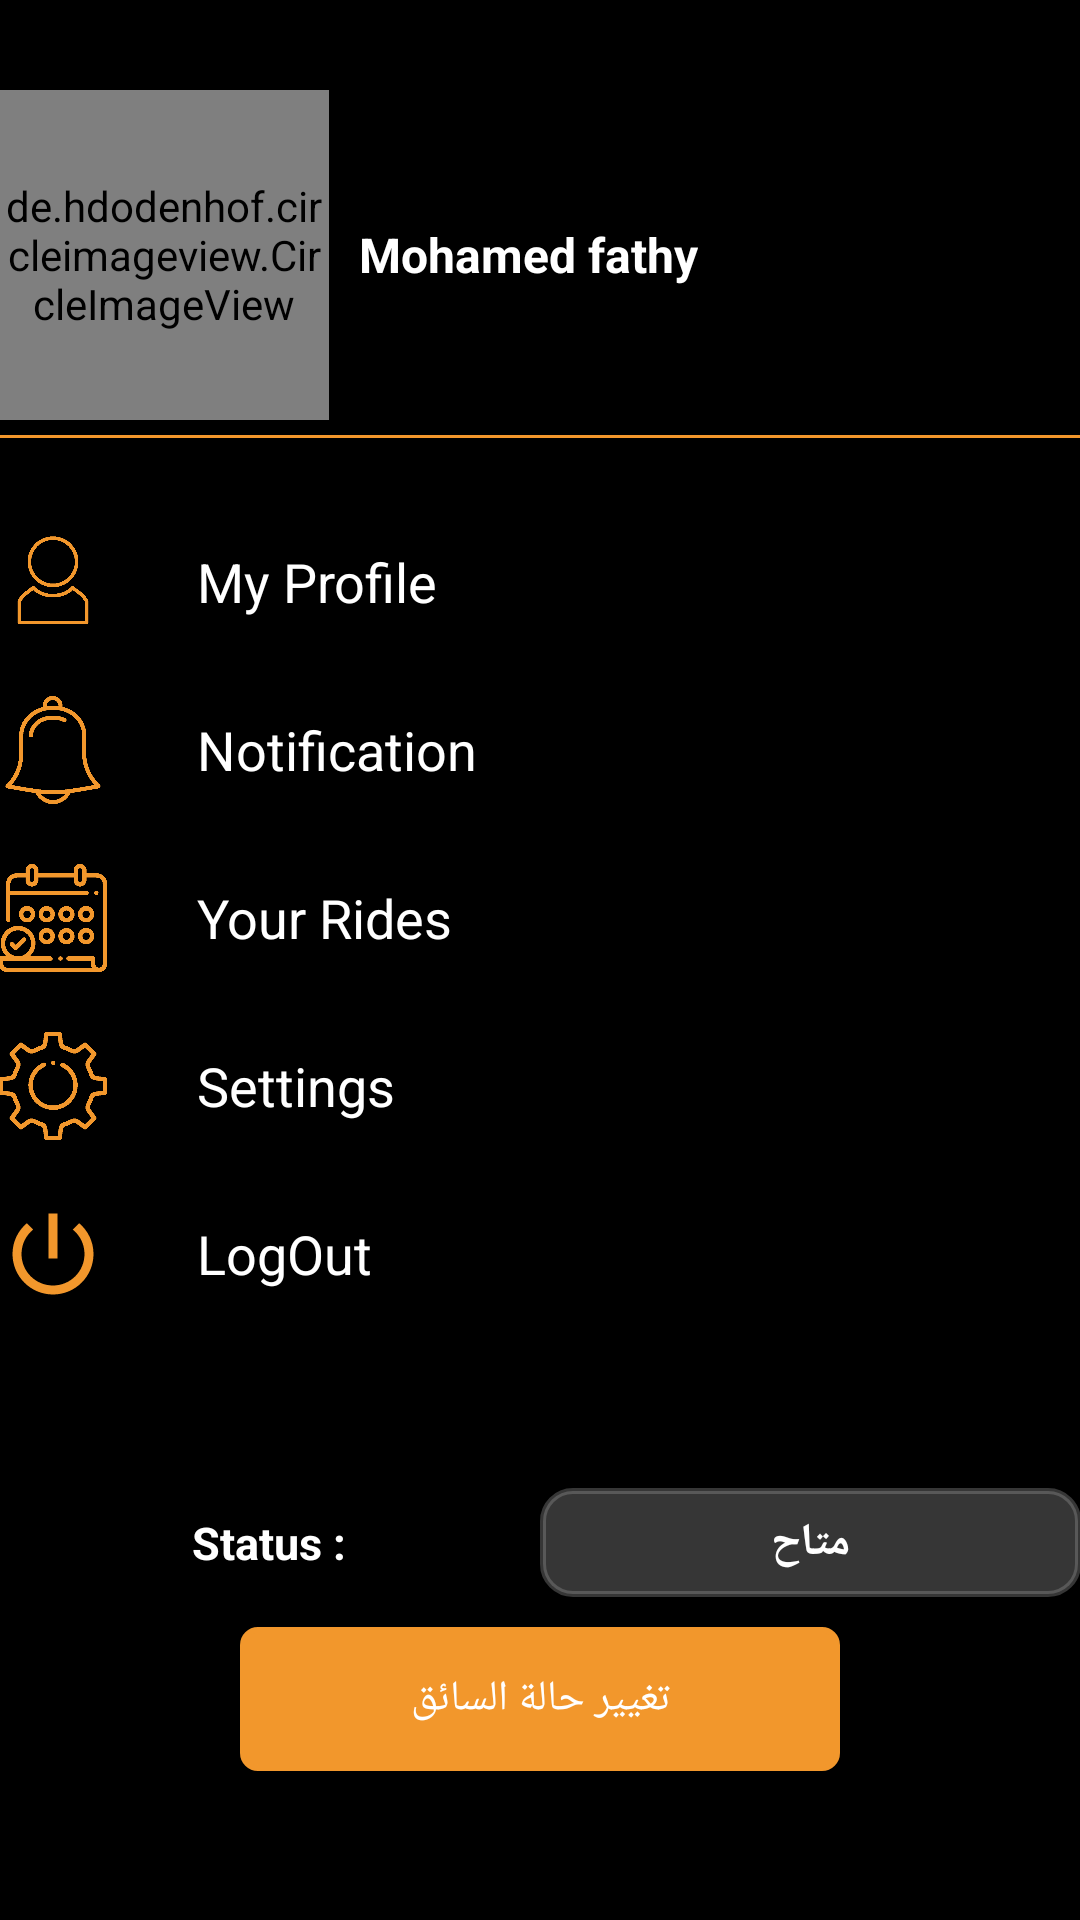

Where to tap for icons on this 1080w x 1920h app screen, as (x=x, y=y):
alarm: (x=53, y=750)
exit: (x=53, y=1254)
user: (x=53, y=580)
weeks: (x=53, y=918)
